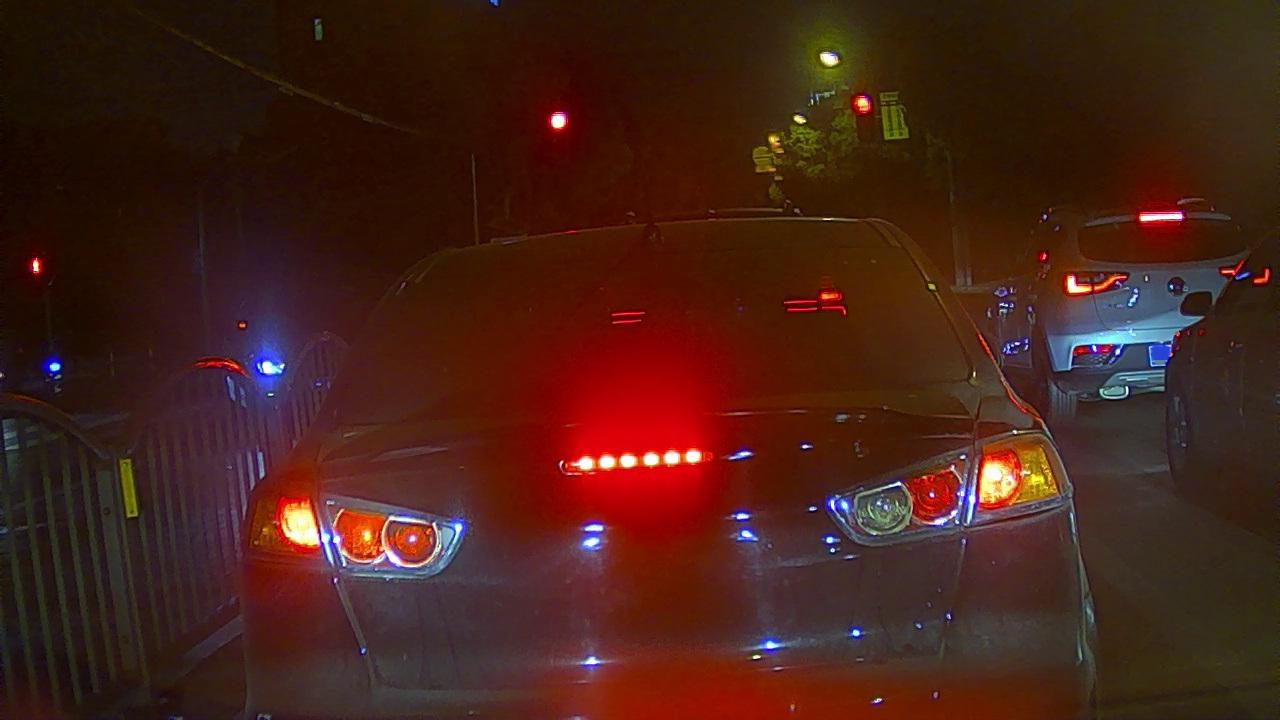traffic_light: (543, 105, 572, 134), (845, 91, 875, 119)
